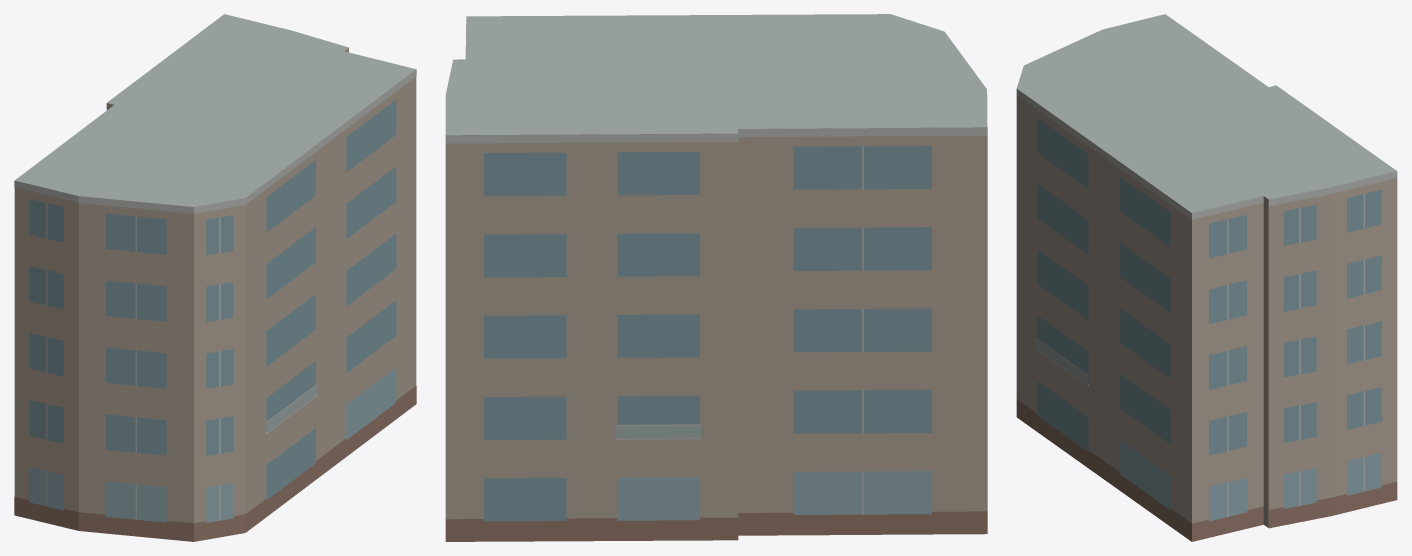
Rendered from survey-upis-32912250.glb.
3 views of the same model, side by side, from view 1: azimuth 30°, elevation 25°; view 2: azimuth 150°, elevation 25°; view 3: azimuth 270°, elevation 25° (orthographic). The views are drawn at different scales.
Parts seen in each view (by area): view 1: survey-upis-32912250.tmp; view 2: survey-upis-32912250.tmp; view 3: survey-upis-32912250.tmp.
Part boxes in pixels (bbox=[...]): survey-upis-32912250.tmp: bbox=[14, 14, 416, 541]; survey-upis-32912250.tmp: bbox=[445, 14, 987, 541]; survey-upis-32912250.tmp: bbox=[1016, 14, 1397, 541].
Bounding box in the file's own units: 15.62 × 12.01 × 12.62.
